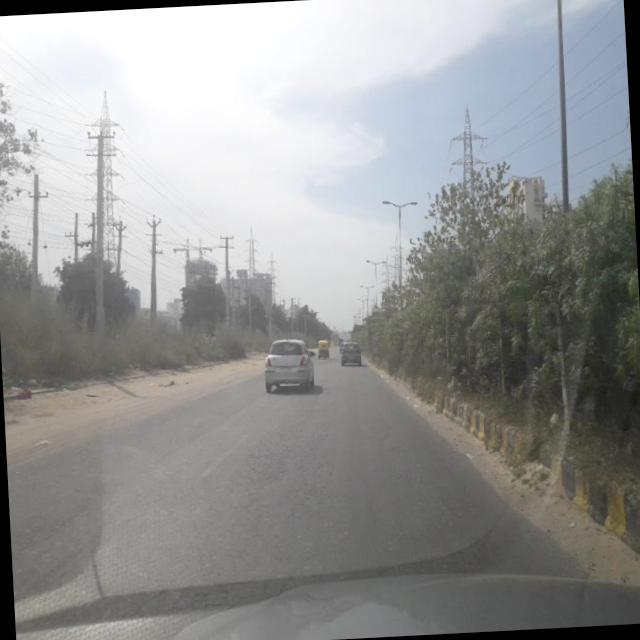crack: (5, 399, 546, 640)
